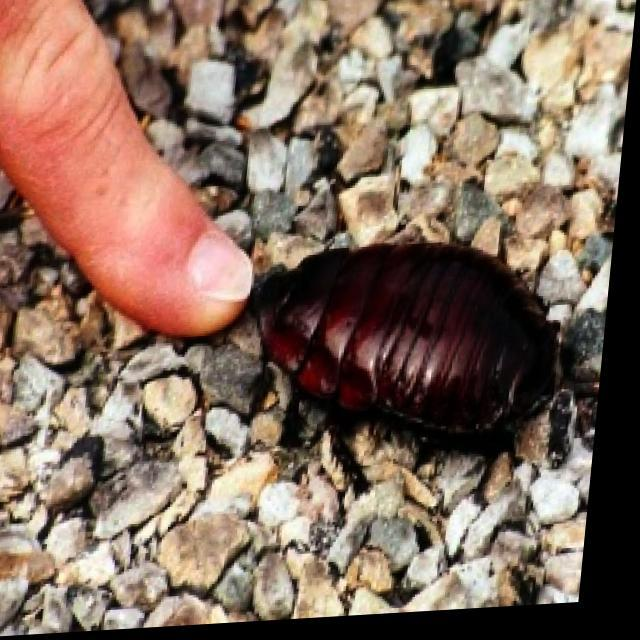cockroach: (252, 236, 567, 448)
